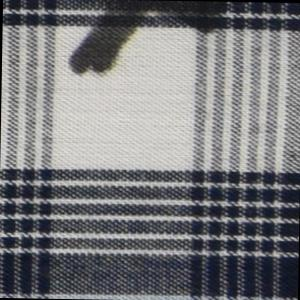Stain: (67, 1, 230, 81)
